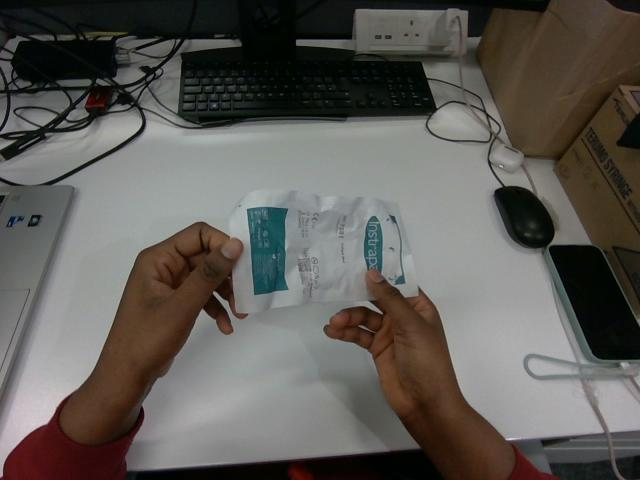gallipot: (230, 190, 417, 312)
